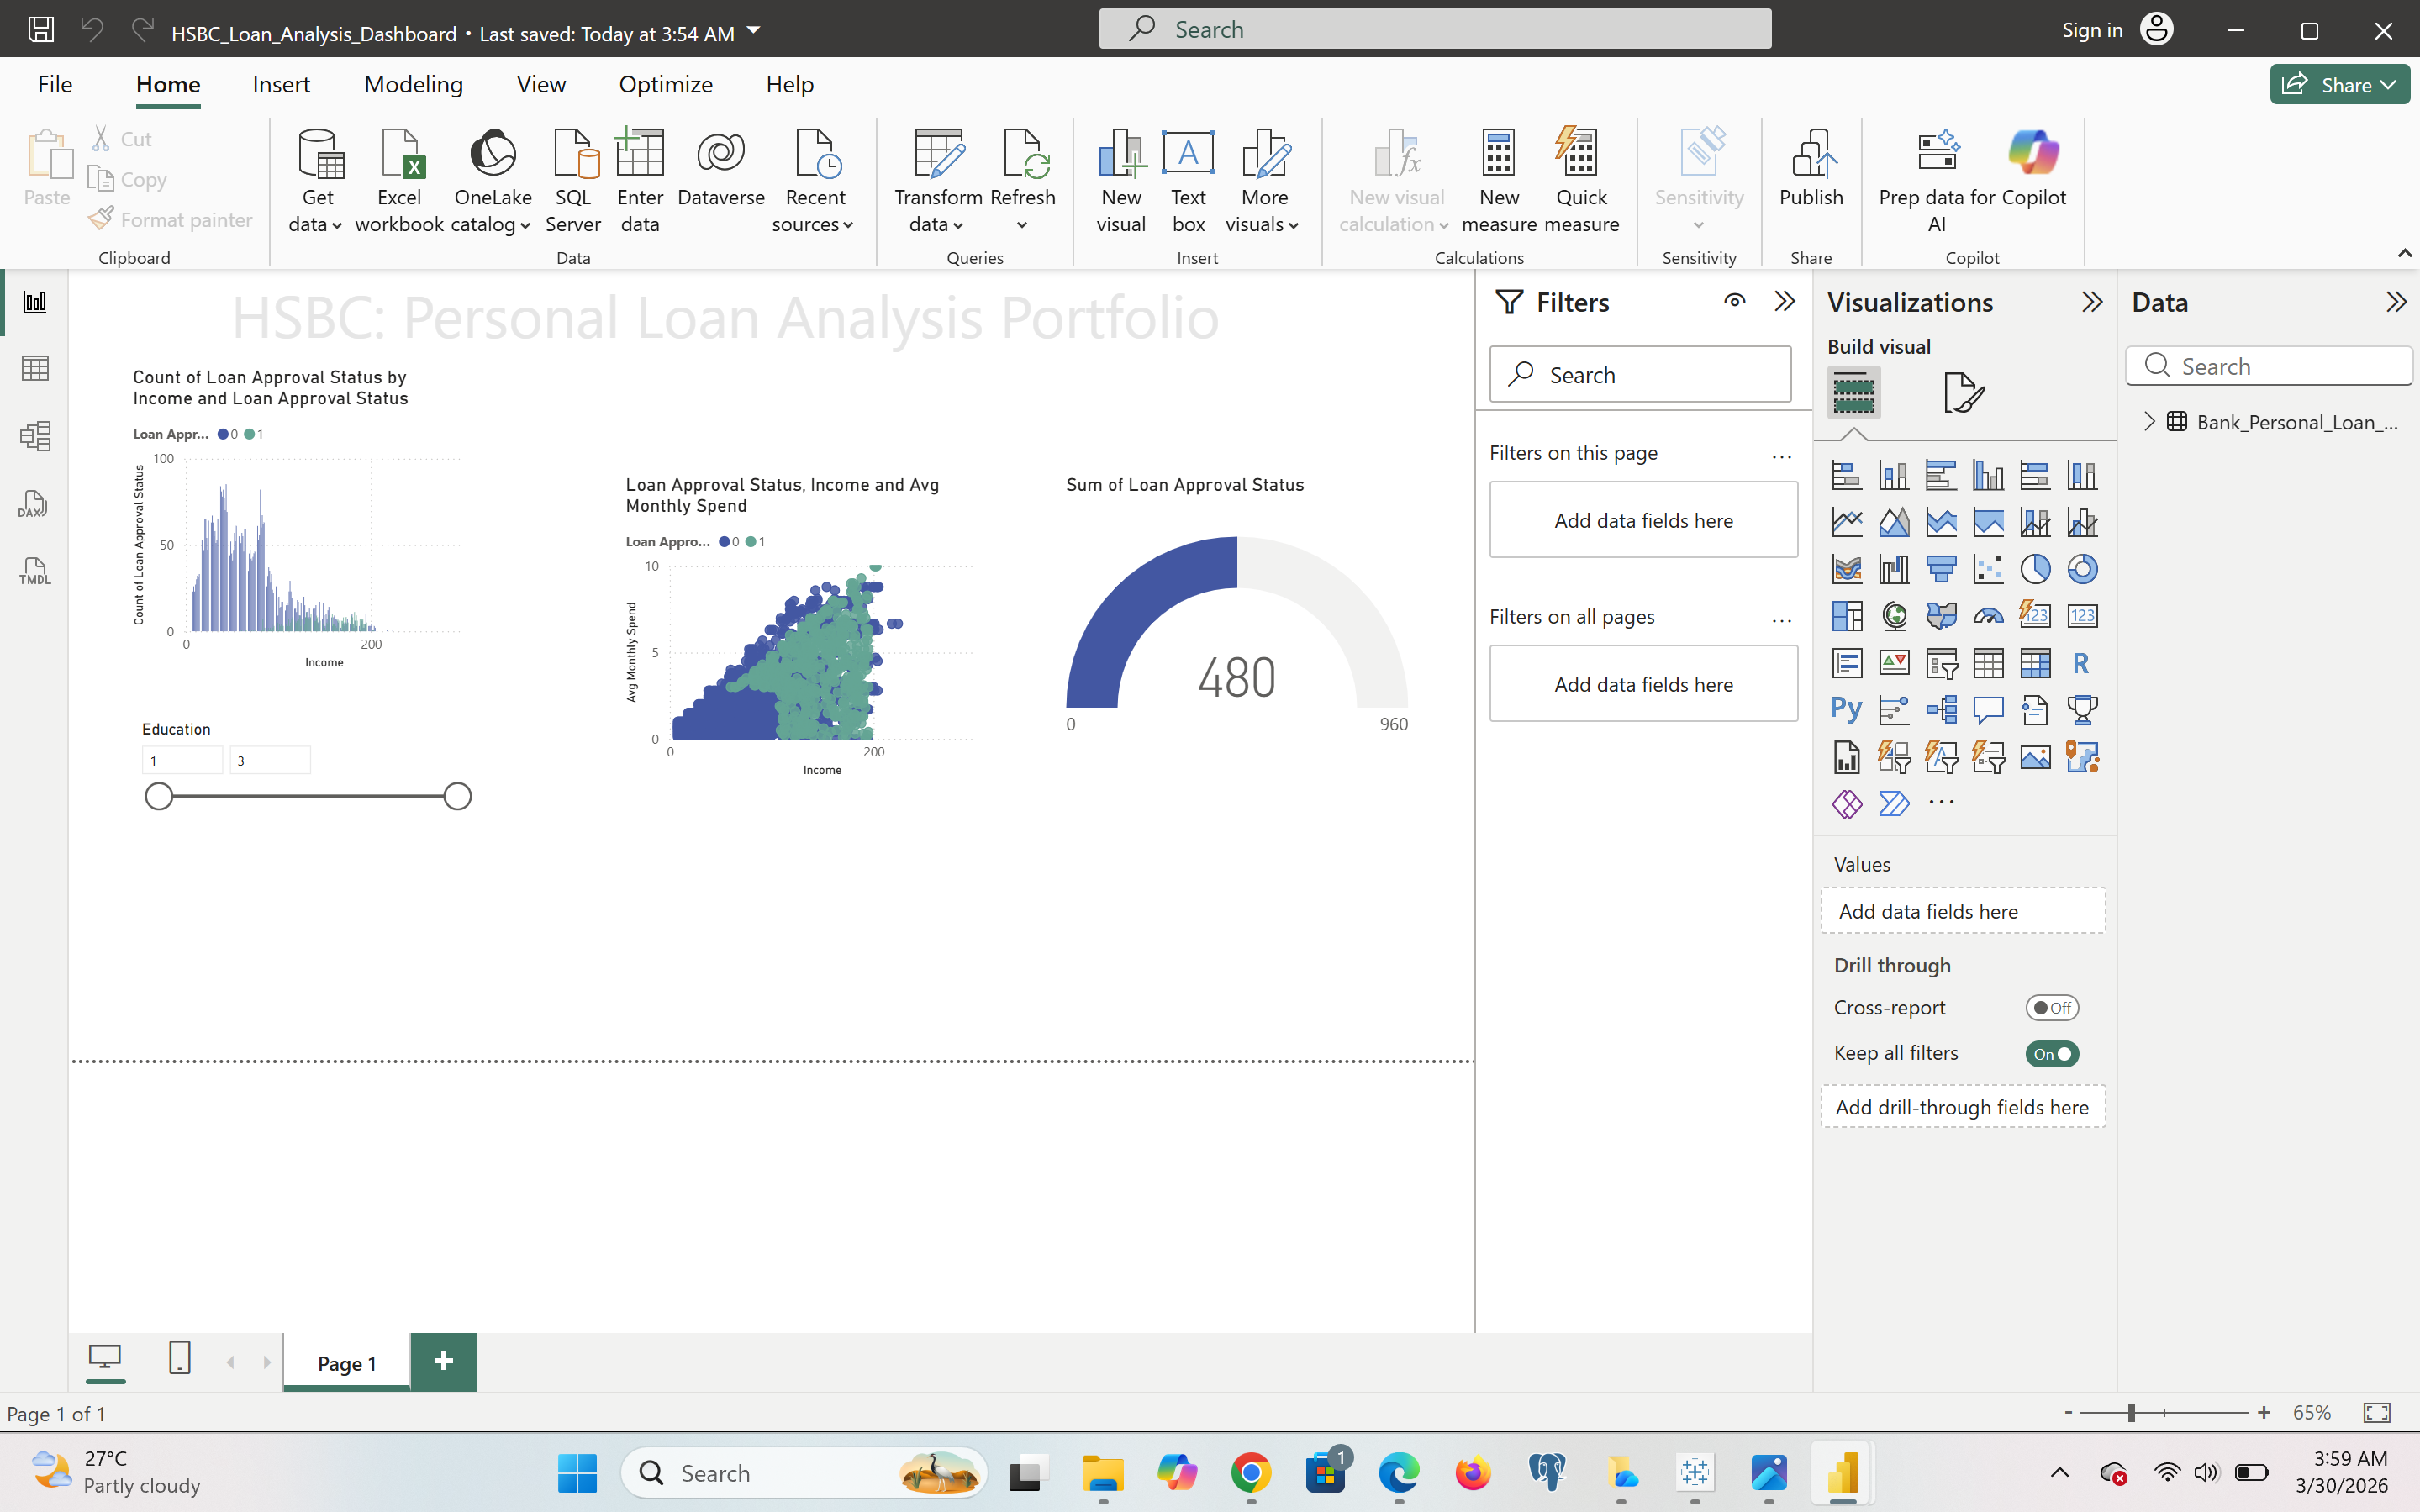

The dashboard page shown, as its layout file describes it:
{"tool":"powerbi","page":{"name":"Page 1","canvas":[1280,720],"ordinal":0},"visuals":[{"type":"clusteredColumnChart","fields":{"Category":["Bank_Personal_Loan_Modelling.Income"],"Y":["CountNonNull(Bank_Personal_Loan_Modelling.Loan Approval Status)"],"Series":["Bank_Personal_Loan_Modelling.Loan Approval Status"]},"box":[53.6,88.8,321.5,280.2],"z":0},{"type":"slicer","fields":{"Values":["Bank_Personal_Loan_Modelling.Education"]},"box":[53.6,405.7,321.5,280.2],"z":1},{"type":"textbox","box":[142.4,0,976.8,88.8],"z":2},{"type":"gauge","fields":{"Y":["Sum(Bank_Personal_Loan_Modelling.Loan Approval Status)"]},"box":[903.3,186.8,321.5,280.2],"z":3},{"type":"scatterChart","fields":{"X":["Bank_Personal_Loan_Modelling.Income"],"Y":["Bank_Personal_Loan_Modelling.Avg Monthly Spend"],"Series":["Bank_Personal_Loan_Modelling.Loan Approval Status"]},"box":[502.2,186.8,338.4,280.2],"z":4}]}

Visuals, with their boxes on the page's 1280x720 design canvas (x1, y1, x2, y2). These are canvas units, not pixel positions in the 2420x1512 screenshot, which may show the page scaled, cropped or inside an application window:
clusteredColumnChart - Bank_Personal_Loan_Modelling.Income x CountNonNull(Bank_Personal_Loan_Modelling.Loan Approval Status): rect(54, 89, 375, 369)
slicer - Bank_Personal_Loan_Modelling.Education: rect(54, 406, 375, 686)
textbox: rect(142, 0, 1119, 89)
gauge - Sum(Bank_Personal_Loan_Modelling.Loan Approval Status): rect(903, 187, 1225, 467)
scatterChart - Bank_Personal_Loan_Modelling.Income x Bank_Personal_Loan_Modelling.Avg Monthly Spend: rect(502, 187, 841, 467)
